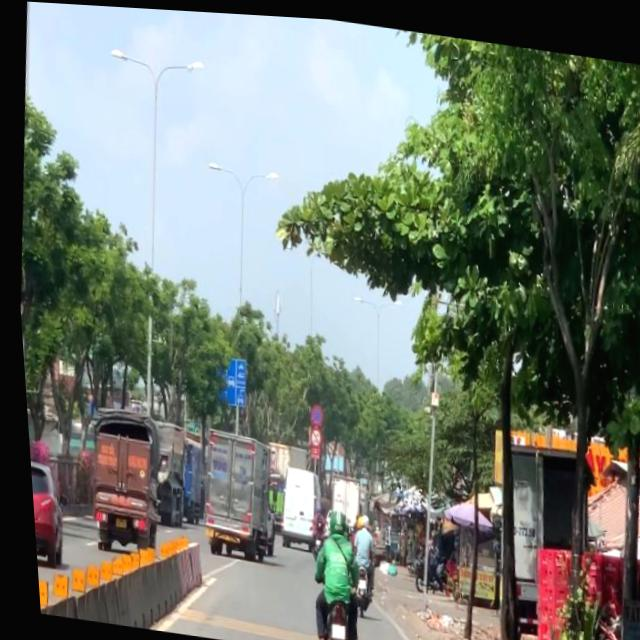Cam dung xe va do xe: (302, 398, 319, 425)
